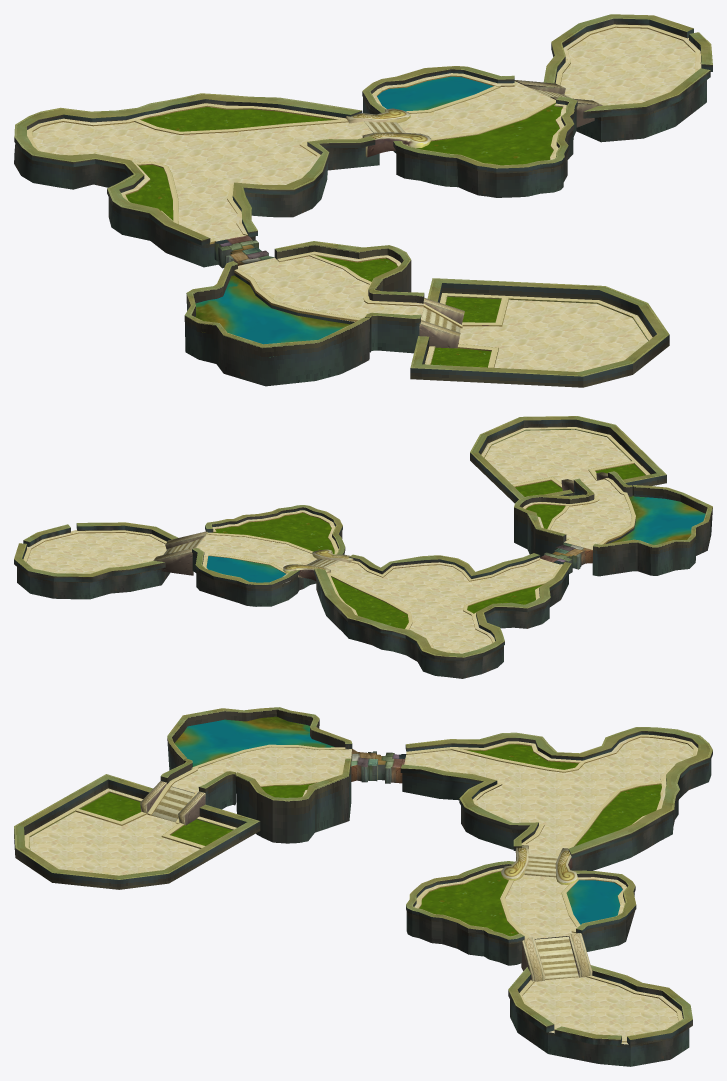
File: Lightterrain1.FBX
3 views of the same model, one above another, from view 1: azimuth 30°, elevation 25°; view 2: azimuth 150°, elevation 25°; view 3: azimuth 270°, elevation 25° (orthographic). The views are drawn at different scales.
Visible parts, largest first — view 1: weiqiang02, dimian03, caodi, heyetan, qiao, qiao03; view 2: weiqiang02, dimian03, caodi, heyetan, qiao, qiao03; view 3: weiqiang02, dimian03, caodi, heyetan, qiao03, qiao.
Part boxes in pixels (x1,y1,x2,y2): weiqiang02: [14, 14, 712, 387]; dimian03: [32, 27, 701, 371]; caodi: [126, 103, 562, 367]; heyetan: [195, 76, 493, 357]; qiao: [346, 80, 602, 348]; qiao03: [214, 87, 570, 332]; weiqiang02: [14, 416, 712, 678]; dimian03: [26, 429, 631, 653]; caodi: [213, 464, 645, 628]; heyetan: [206, 495, 705, 582]; qiao: [153, 472, 607, 580]; qiao03: [163, 537, 592, 573]; weiqiang02: [14, 707, 712, 1066]; dimian03: [29, 737, 693, 1044]; caodi: [80, 744, 661, 936]; heyetan: [174, 716, 622, 924]; qiao03: [151, 749, 578, 979]; qiao: [140, 781, 592, 981].
Size of the model in its own units: 3208 by 3094 by 292.
